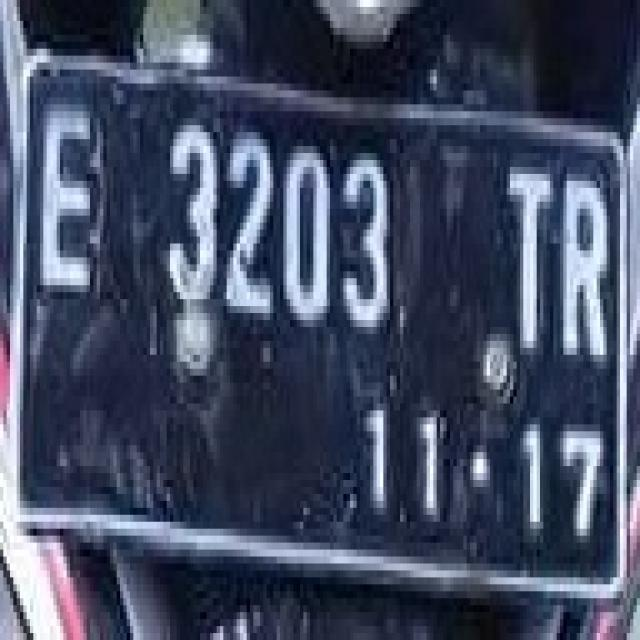plate: (13, 42, 630, 605)
